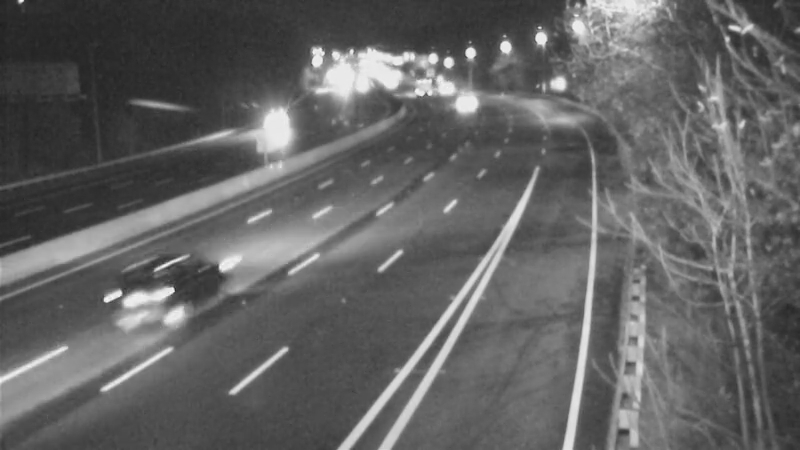vehicle: (103, 256, 183, 336), (398, 63, 448, 113), (417, 64, 467, 114), (441, 73, 491, 123), (246, 110, 296, 160)
